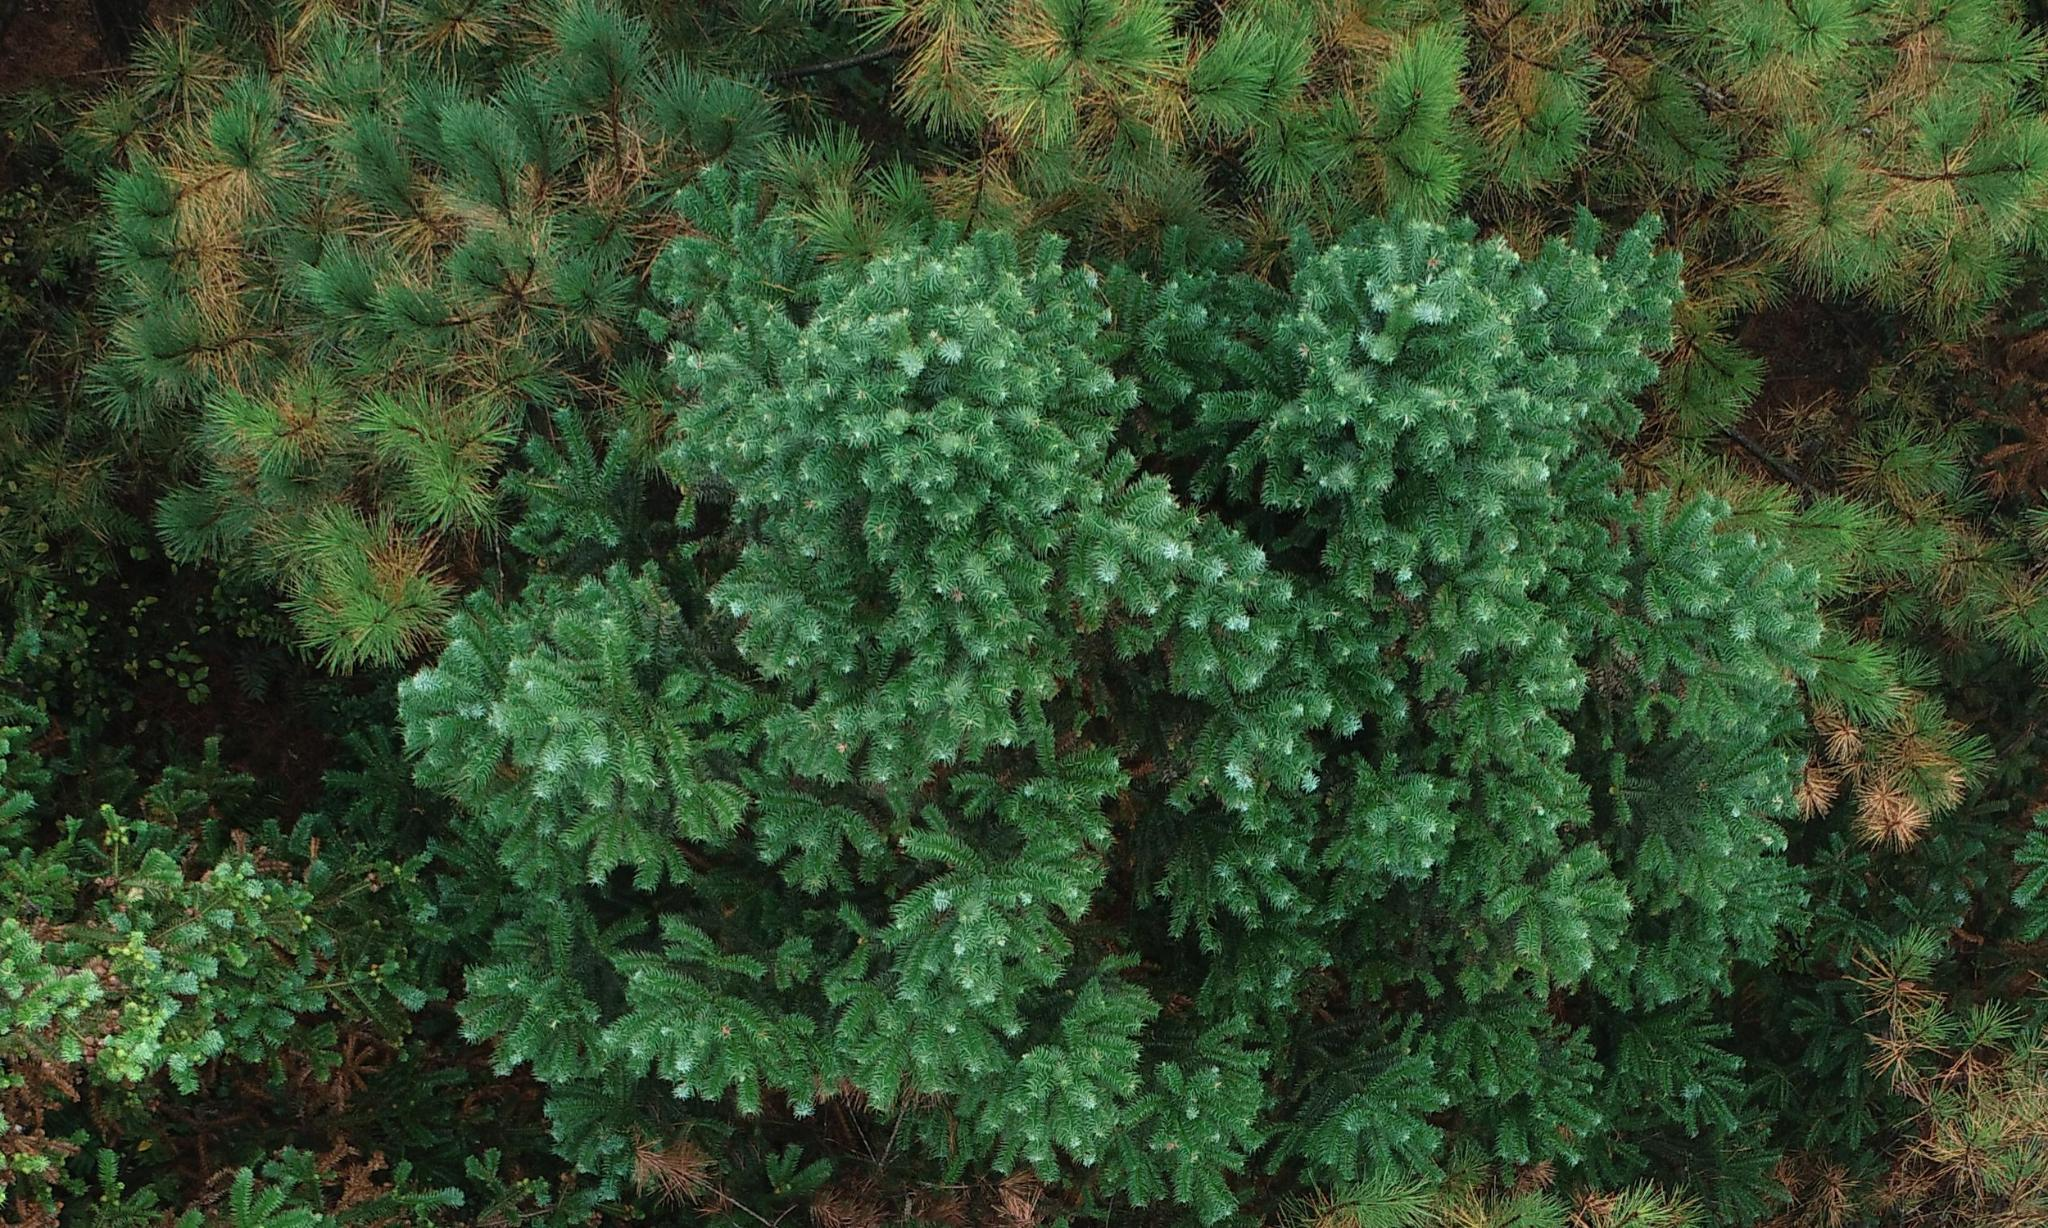light: (92, 7, 735, 653), (1652, 354, 2032, 1206), (905, 20, 2023, 306)
